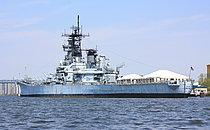MIL_Ship: (16, 24, 195, 99)
